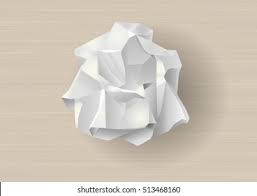crumpled paper: (62, 20, 196, 146)
